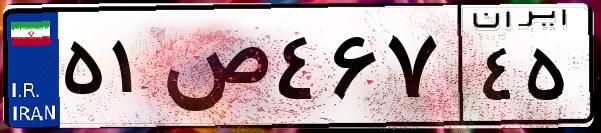1: (110, 28, 158, 98)
4: (270, 28, 330, 110), (475, 38, 525, 113)
5: (57, 26, 110, 100), (525, 38, 570, 115)
6: (330, 28, 385, 110)
7: (385, 28, 445, 110)
ص: (158, 20, 270, 120)
